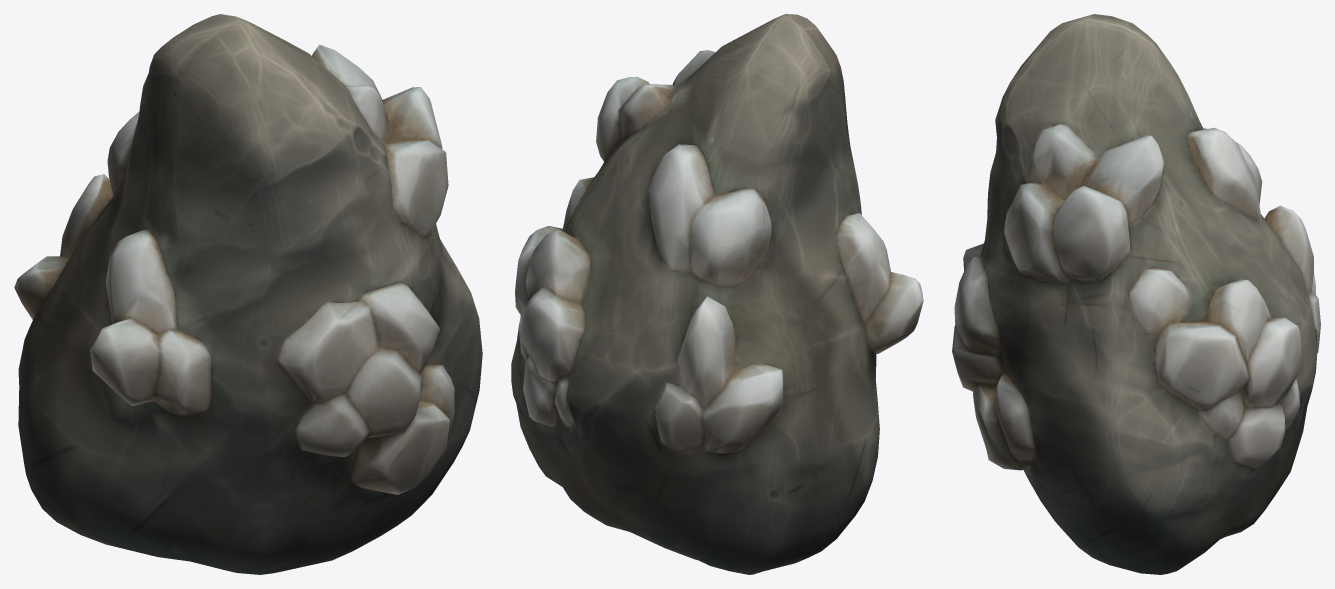
The model's file is SM_Gem_Silver_005.fbx.
3 views of the same model, side by side, from view 1: azimuth 30°, elevation 25°; view 2: azimuth 150°, elevation 25°; view 3: azimuth 270°, elevation 25° (orthographic). The views are drawn at different scales.
Parts seen in each view (by area): view 1: SM_Gem_Silver_005; view 2: SM_Gem_Silver_005; view 3: SM_Gem_Silver_005.
Boxes of the visible parts, left/top/right/bottom form: SM_Gem_Silver_005: left=14, top=14, right=482, bottom=574; SM_Gem_Silver_005: left=511, top=14, right=923, bottom=574; SM_Gem_Silver_005: left=952, top=14, right=1320, bottom=574.
Size of the model in its own units: 81.72 by 106 by 72.53.
